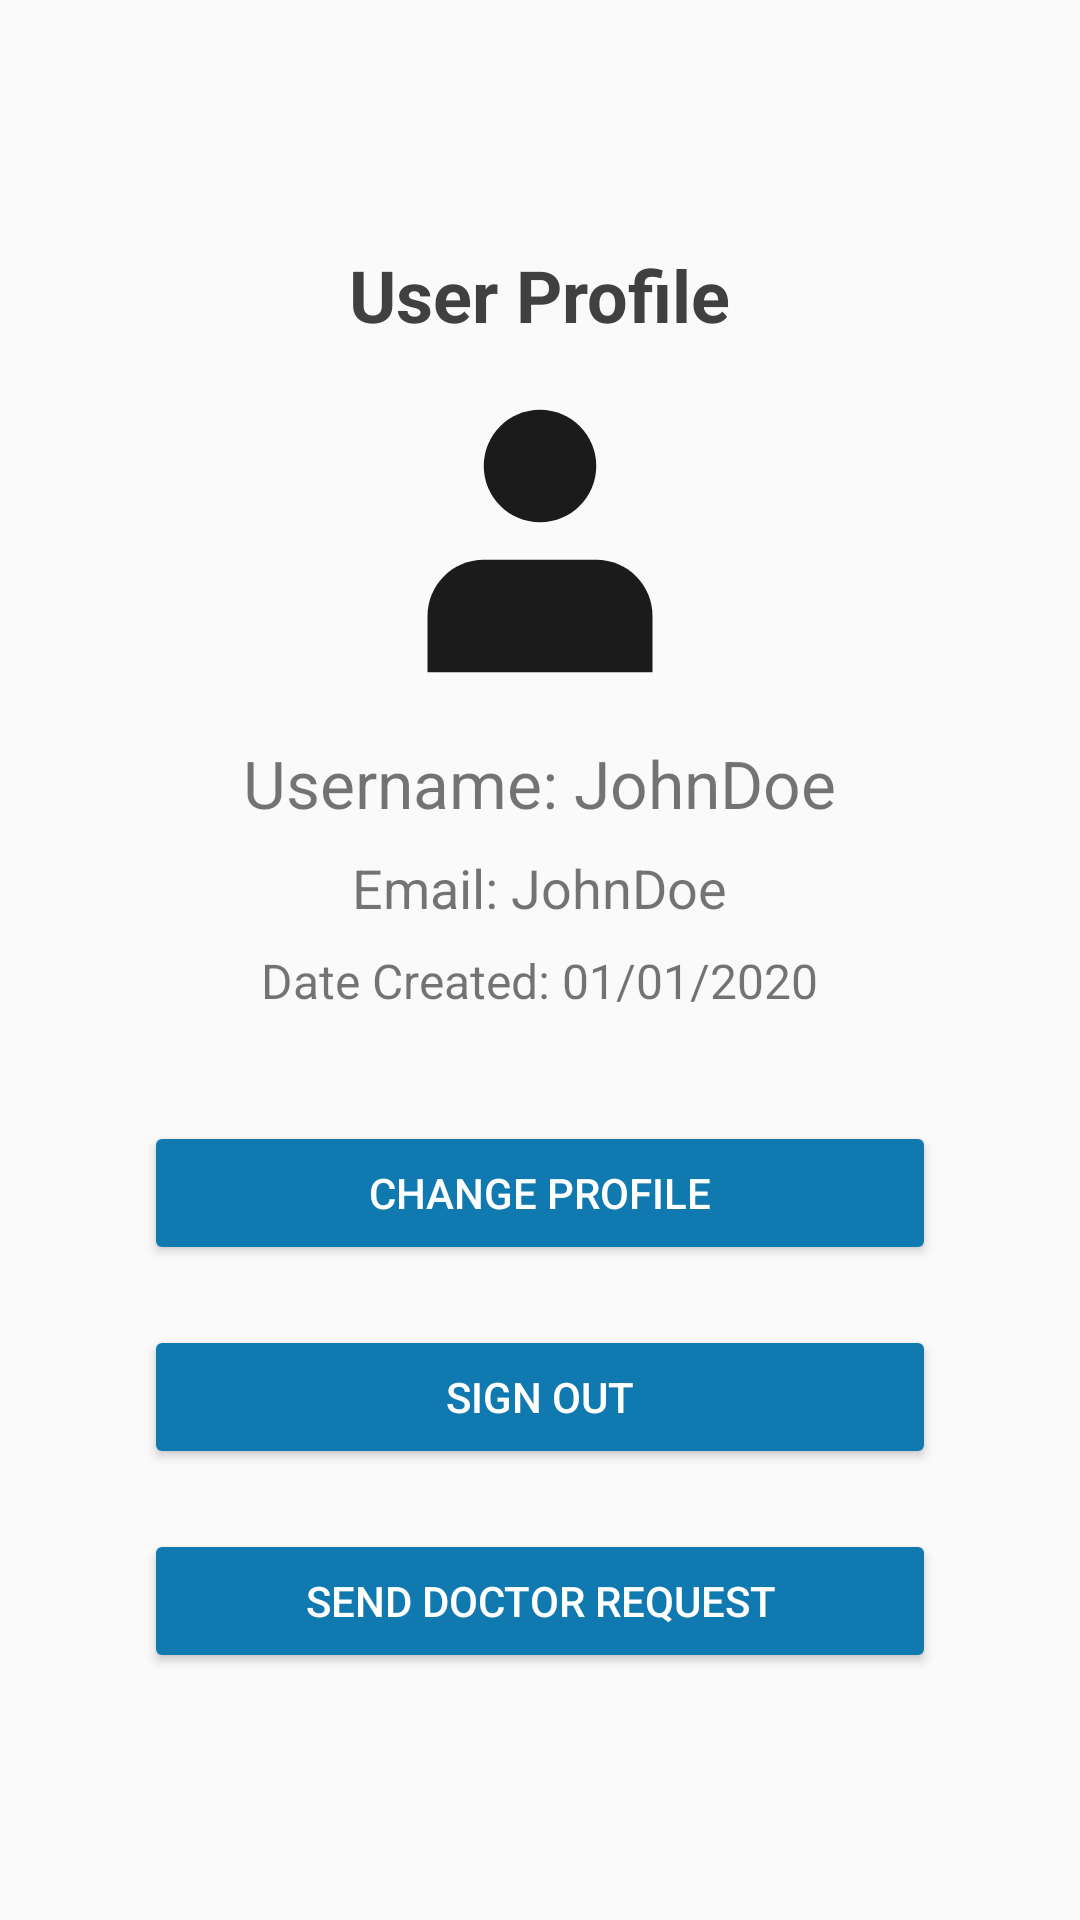

Where to tap for icons on this 1080*1920 app screen, as point (x, y):
User Avatar: point (540, 541)
